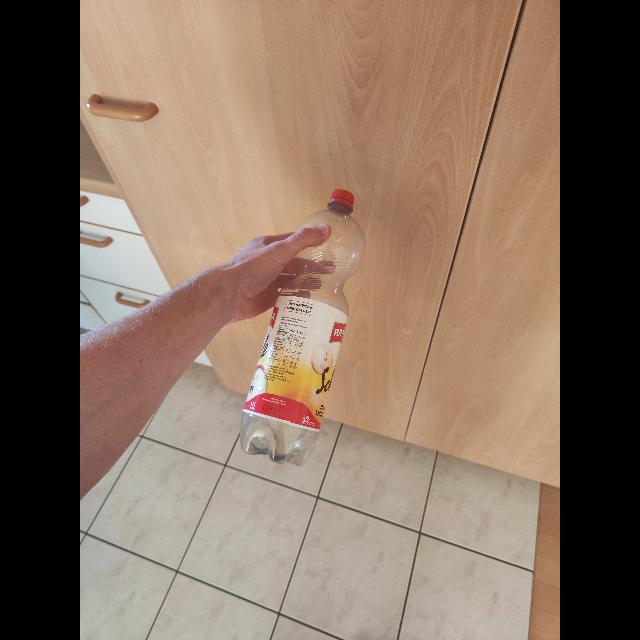Plastic: (236, 185, 368, 468)
